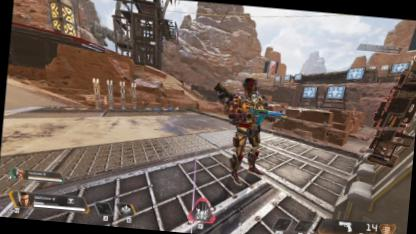Target: (225, 73, 275, 184)
